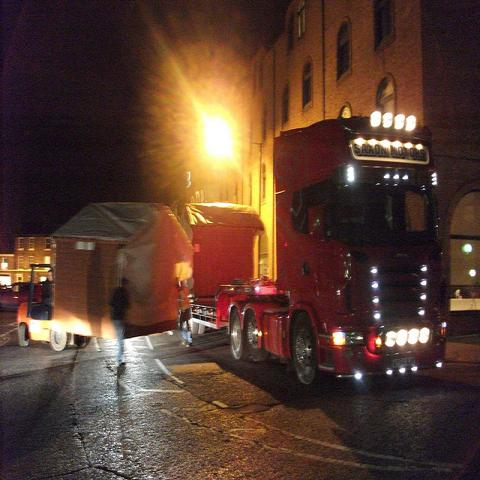car: (1, 282, 42, 312)
truck: (220, 109, 458, 392)
